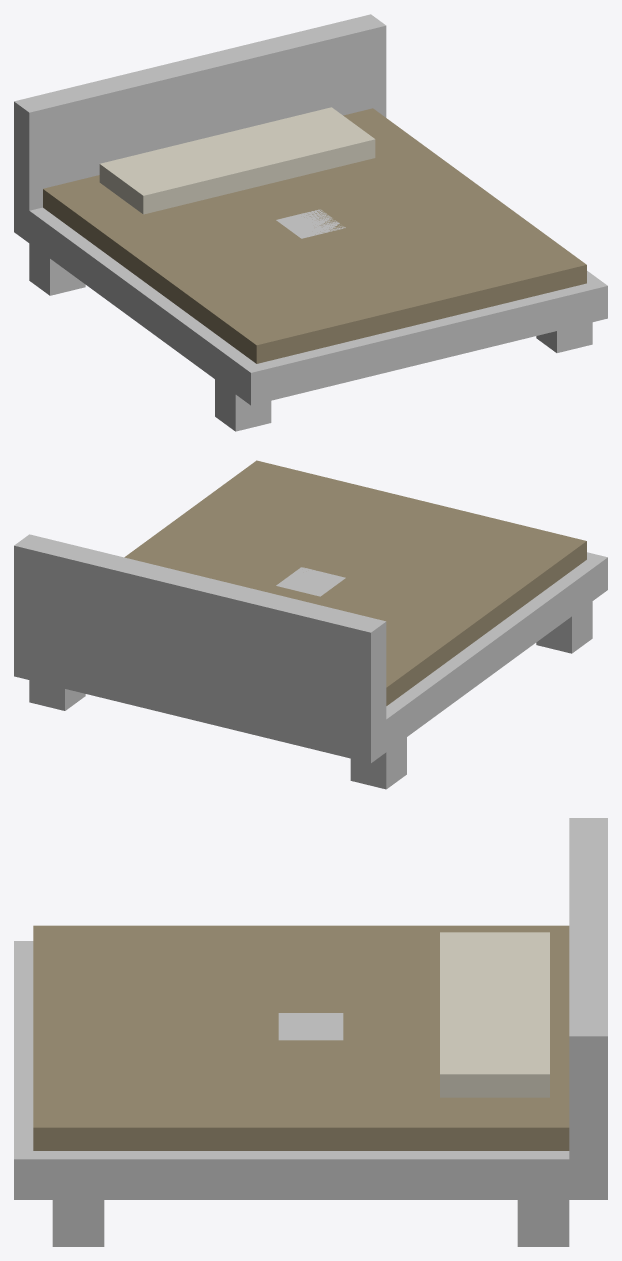
Rendered from bed.obj.
3 views of the same model, one above another, from view 1: azimuth 30°, elevation 25°; view 2: azimuth 150°, elevation 25°; view 3: azimuth 270°, elevation 25° (orthographic). The views are drawn at different scales.
Parts seen in each view (by area): view 1: Sheet, Headboard, Frame, Pillow, Legs.002, Legs, Surface [surface], Legs.003; view 2: Sheet, Headboard, Frame, Legs, Legs.002, Surface [surface], Legs.001; view 3: Sheet, Frame, Pillow, Headboard, Legs.001, Legs.003, Surface [surface].
Boxes of the visible parts, x1,y1,x2,y2 form: Sheet: [43, 108, 586, 363]; Headboard: [14, 14, 386, 210]; Frame: [14, 200, 607, 405]; Pillow: [99, 107, 375, 214]; Legs.002: [215, 379, 271, 431]; Legs: [29, 243, 85, 295]; Surface [surface]: [276, 209, 345, 238]; Legs.003: [536, 322, 592, 352]; Sheet: [124, 460, 586, 705]; Headboard: [14, 534, 386, 730]; Frame: [14, 552, 607, 763]; Legs: [350, 737, 406, 789]; Legs.002: [536, 601, 592, 653]; Surface [surface]: [276, 567, 345, 596]; Legs.001: [29, 680, 85, 710]; Sheet: [33, 925, 569, 1150]; Frame: [14, 941, 607, 1199]; Pillow: [440, 932, 549, 1097]; Headboard: [569, 818, 607, 1159]; Legs.001: [517, 1200, 569, 1246]; Legs.003: [52, 1200, 104, 1246]; Surface [surface]: [278, 1013, 343, 1040].
Bounding box in the file's own units: 0.8 × 0.36 × 0.92.
